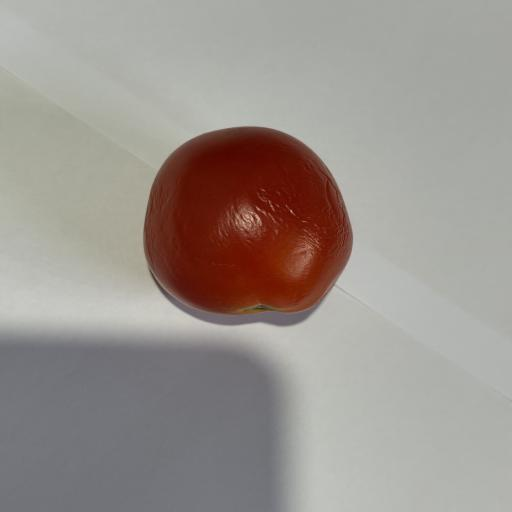spoiled: (144, 127, 352, 315)
